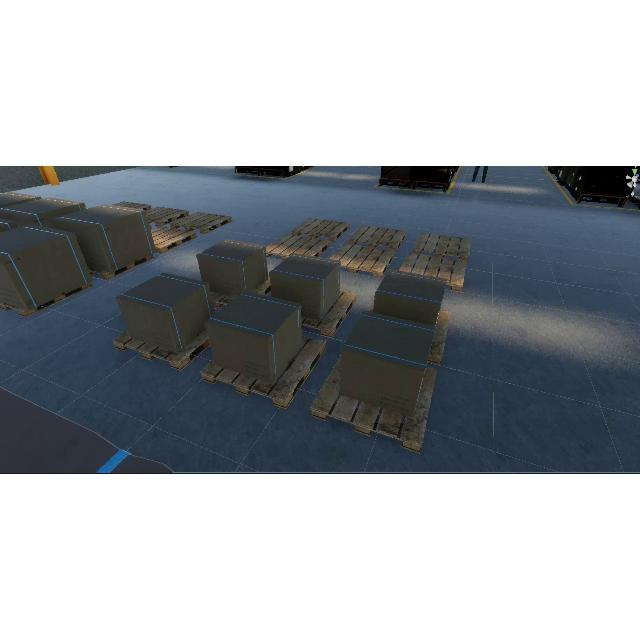wooden_pallet: (310, 355, 441, 456), (201, 335, 326, 409), (112, 327, 210, 372), (0, 281, 95, 317), (300, 288, 358, 338), (399, 252, 468, 290), (328, 242, 394, 277), (88, 254, 154, 281), (412, 232, 473, 261), (265, 233, 330, 260), (347, 223, 408, 250), (169, 212, 232, 236), (291, 217, 350, 241), (150, 224, 196, 254), (144, 204, 189, 226)
